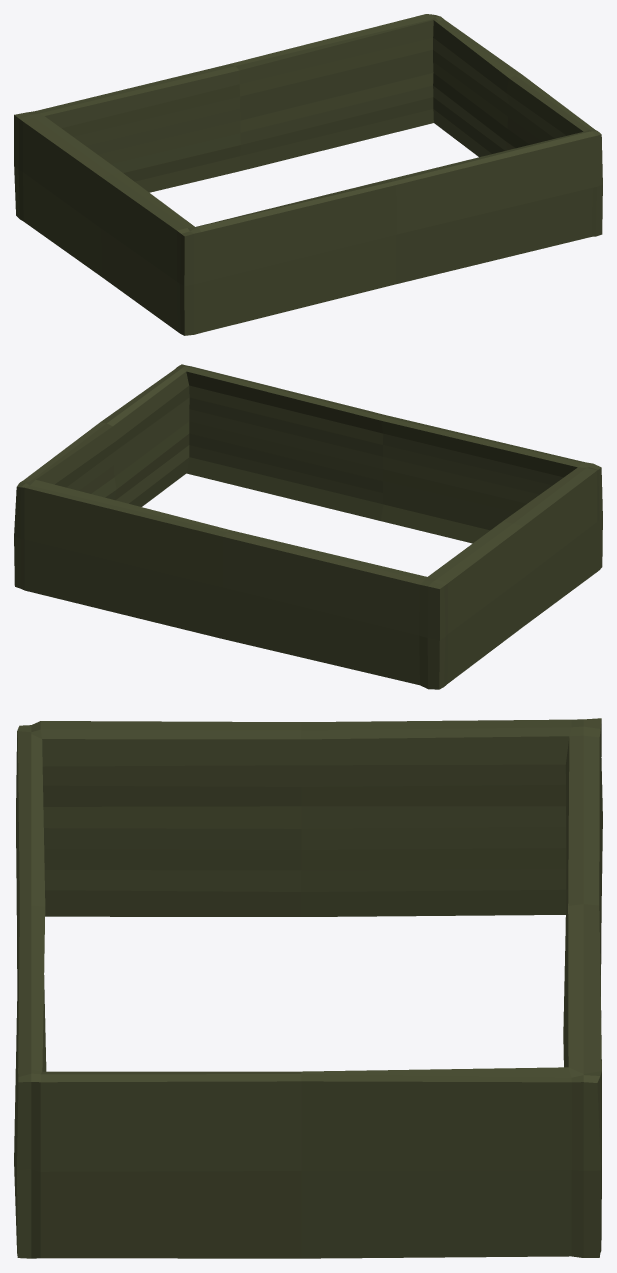
File: Outerwall.fbx
The picture shows the model from 3 angles, top to bottom: view 1: azimuth 30°, elevation 25°; view 2: azimuth 150°, elevation 25°; view 3: azimuth 270°, elevation 25°; orthographic projection. The views are drawn at different scales.
Parts seen in each view (by area): view 1: OUTERWALL.002; view 2: OUTERWALL.002; view 3: OUTERWALL.002.
Boxes of the visible parts, x1,y1,x2,y2 form: OUTERWALL.002: (14, 14, 602, 335); OUTERWALL.002: (14, 364, 602, 689); OUTERWALL.002: (14, 718, 602, 1258).
Bounding box in the file's own units: 6502 × 4442 × 1533.
